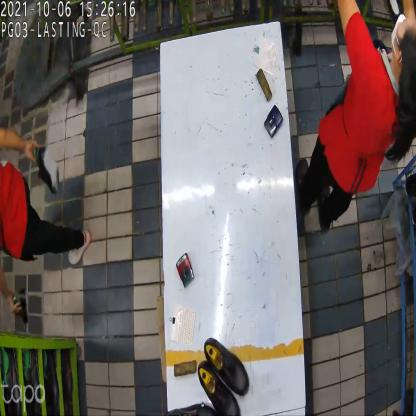shoes: (198, 337, 247, 415)
stamp: (267, 103, 284, 141), (178, 249, 194, 283)
